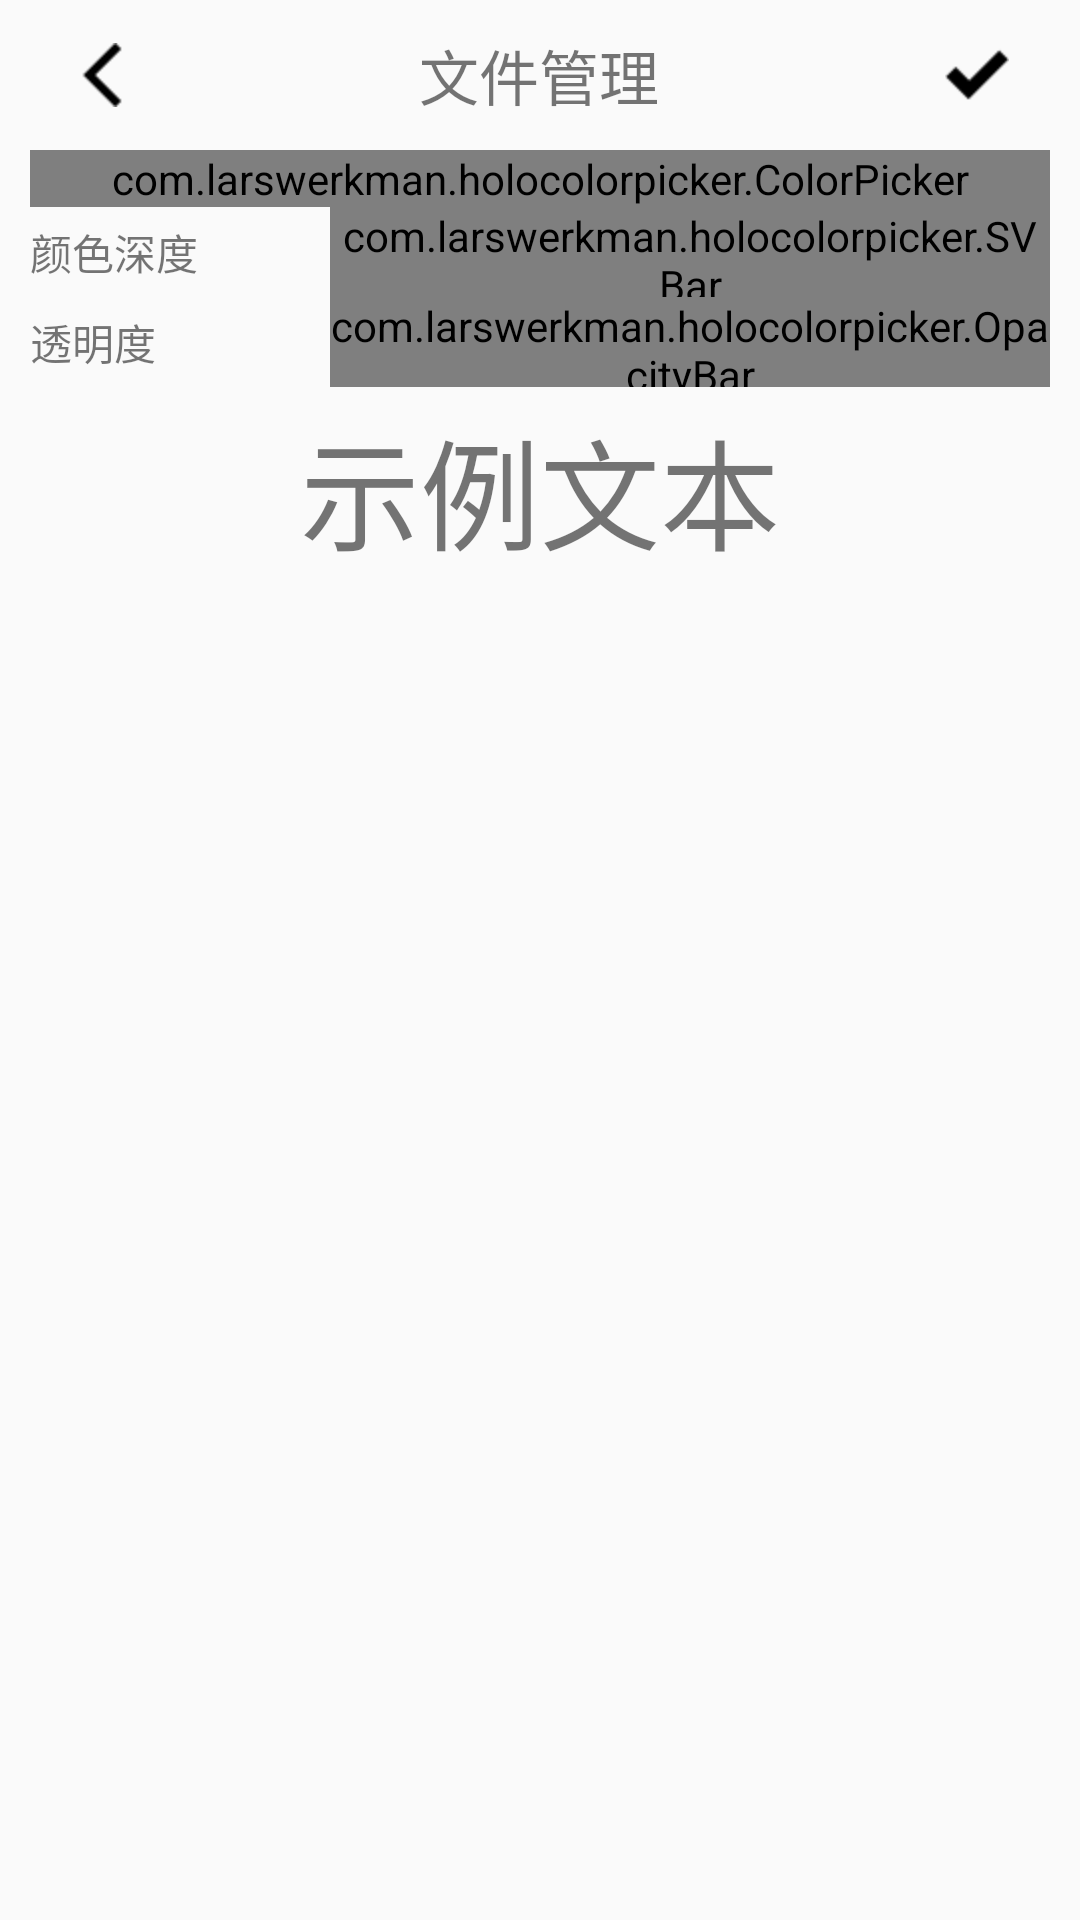

Where icons sit on this 1080 x 1920 app screen, as {"x1": x1, "y1": y1, "x2": x2, "y2": y2}:
back: {"x1": 83, "y1": 43, "x2": 122, "y2": 107}
ensure: {"x1": 945, "y1": 50, "x2": 1009, "y2": 100}
